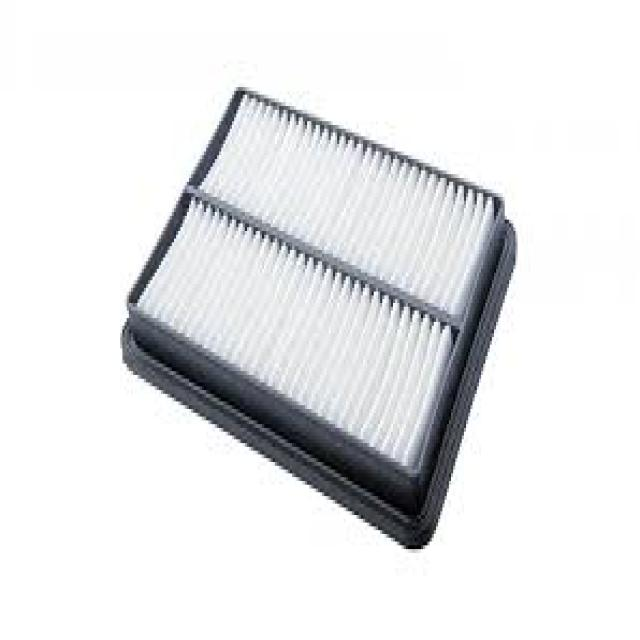air_filter: (134, 97, 501, 473)
